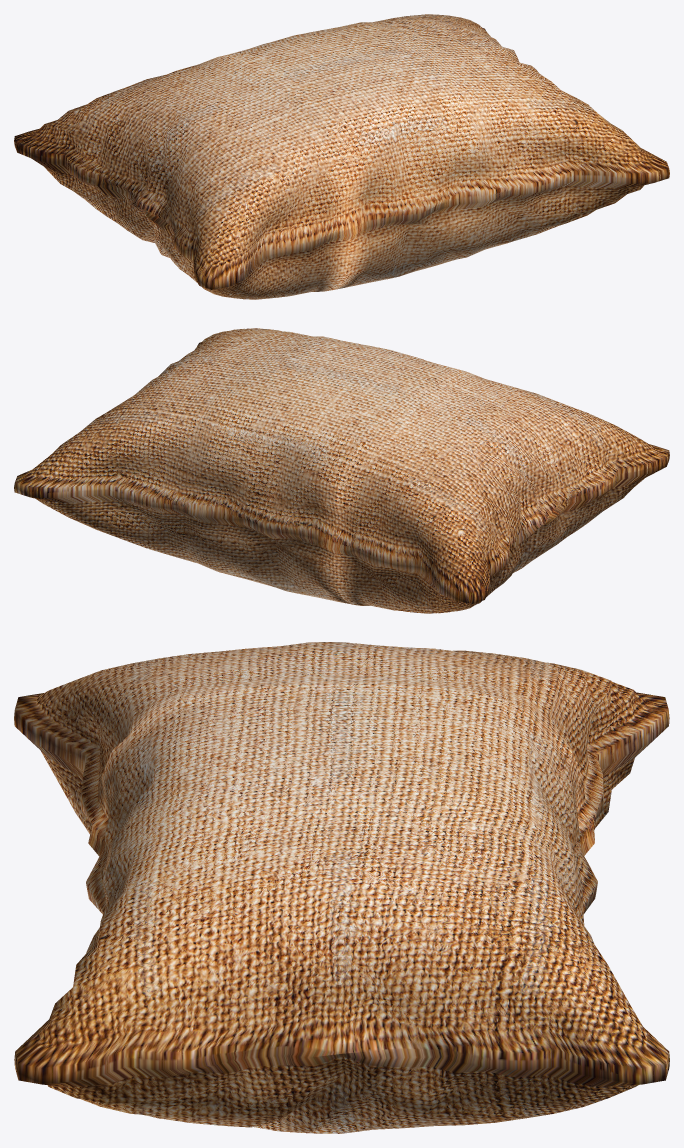
File: Saco_prefab.fbx
3 renders of one model, top to bottom at view 1: azimuth 30°, elevation 25°; view 2: azimuth 150°, elevation 25°; view 3: azimuth 270°, elevation 25°, orthographic. The views are drawn at different scales.
Parts seen in each view (by area): view 1: Plane; view 2: Plane; view 3: Plane.
Boxes of the visible parts, <box> form: Plane: <box>14,14,669,299</box>; Plane: <box>14,328,669,613</box>; Plane: <box>14,642,669,1133</box>.
Bounding box in the file's own units: 292 × 113 × 215.
1 material, 1 textured.
